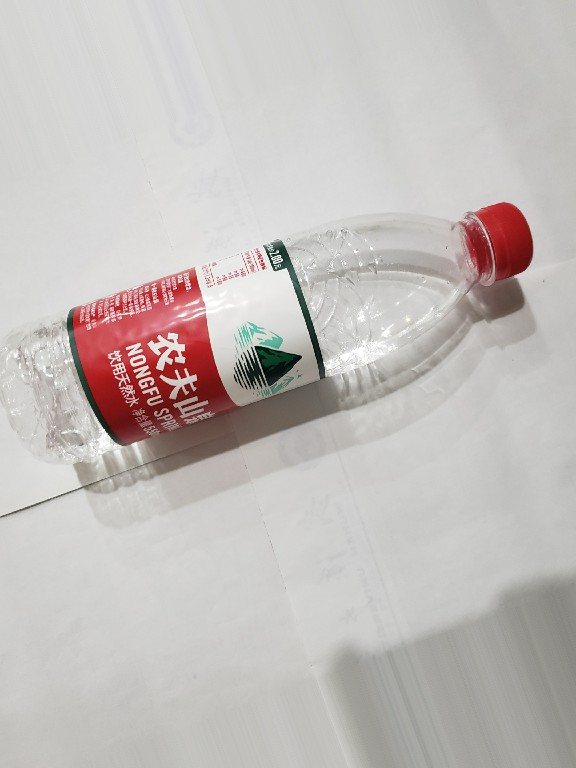bottle: (1, 191, 546, 470)
